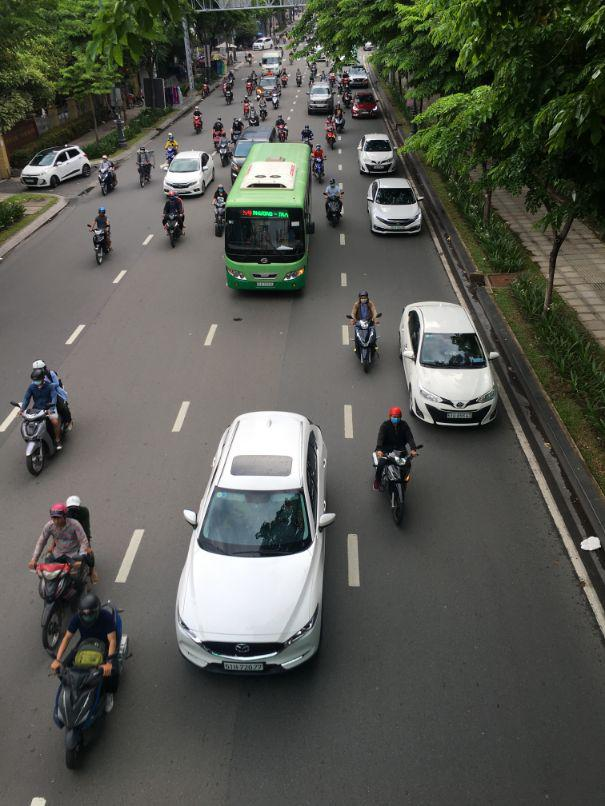bus: (224, 147, 314, 293)
car: (176, 413, 338, 680), (398, 301, 499, 430), (366, 176, 424, 238), (20, 146, 92, 188), (163, 149, 215, 197), (358, 135, 397, 178), (308, 85, 335, 116), (351, 94, 381, 120)
motorbike: (51, 634, 126, 768), (34, 534, 97, 653), (376, 444, 416, 527), (21, 401, 62, 477), (355, 318, 381, 373), (91, 226, 111, 265), (100, 157, 120, 195), (323, 188, 342, 227), (138, 158, 153, 186)
